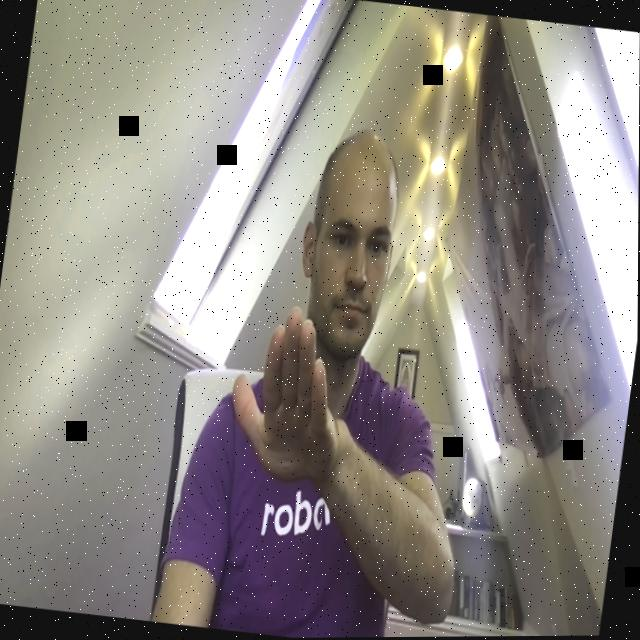Paper: (228, 298, 354, 488)
